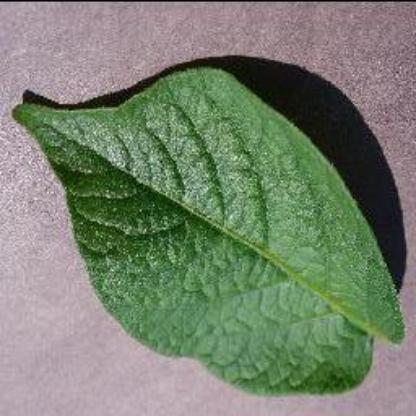Healthy-plant: (5, 56, 412, 401)
